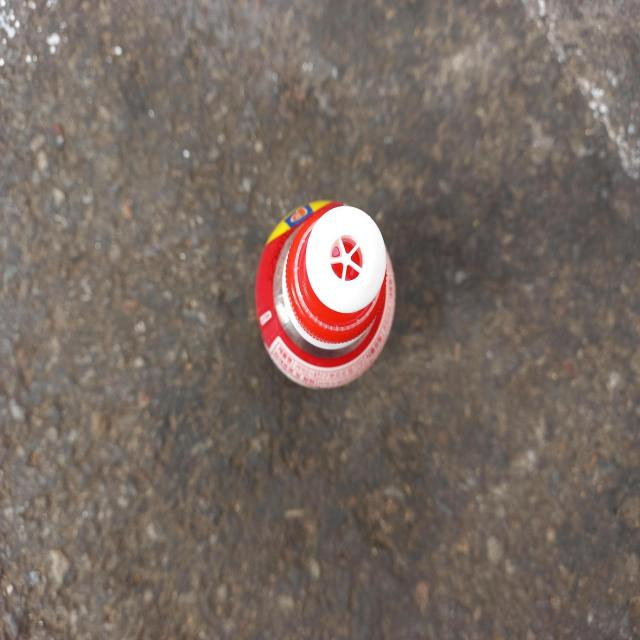plastic: (255, 200, 396, 388)
